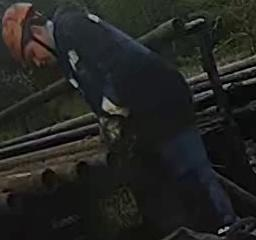gloves: (95, 102, 129, 154)
helmet: (0, 0, 38, 72)
vest: (54, 5, 194, 137)
